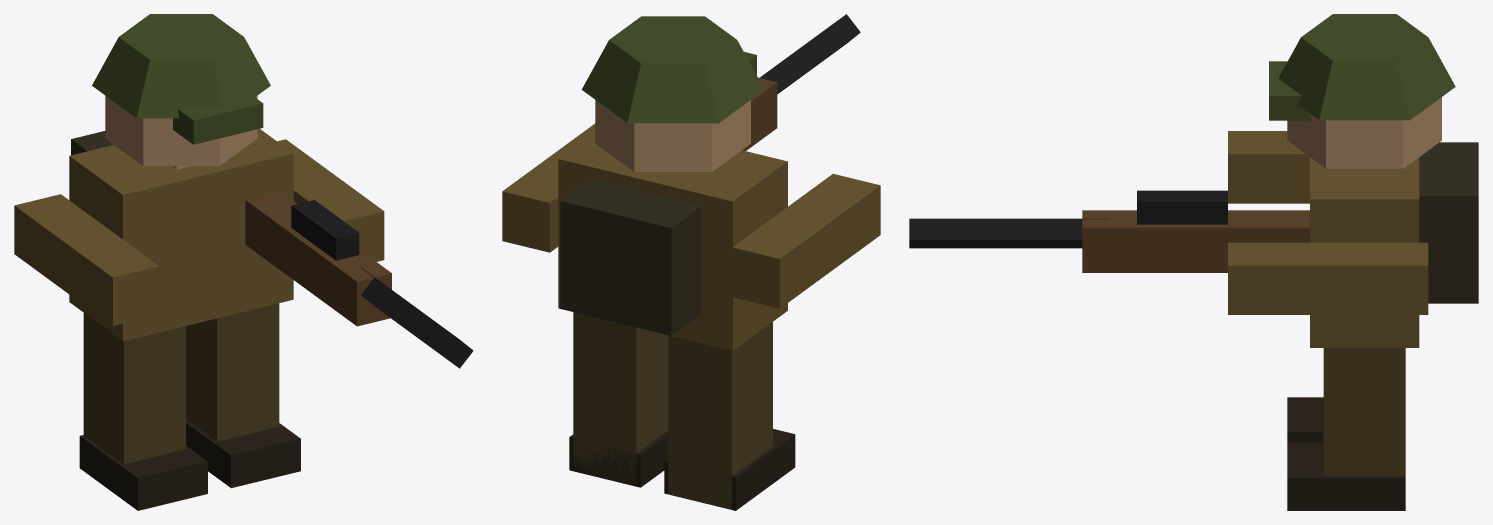
Rendered from enemy_grunt.glb.
3 renders of one model, left to right at view 1: azimuth 30°, elevation 25°; view 2: azimuth 150°, elevation 25°; view 3: azimuth 270°, elevation 25°, orthographic. The views are drawn at different scales.
Parts seen in each view (by area): view 1: body, legR, legL; view 2: body, legR, legL; view 3: body, legL, legR.
Boxes of the visible parts, x1,y1,x2,y2 form: body: (14,14,473,368); legR: (79,313,207,510); legL: (186,303,300,488); body: (502,14,880,350); legR: (664,322,795,510); legL: (569,312,668,487); body: (909,14,1478,347); legL: (1287,348,1405,510); legR: (1287,397,1323,443).
Size of the model in its own units: 0.35 by 0.525 by 0.625.
